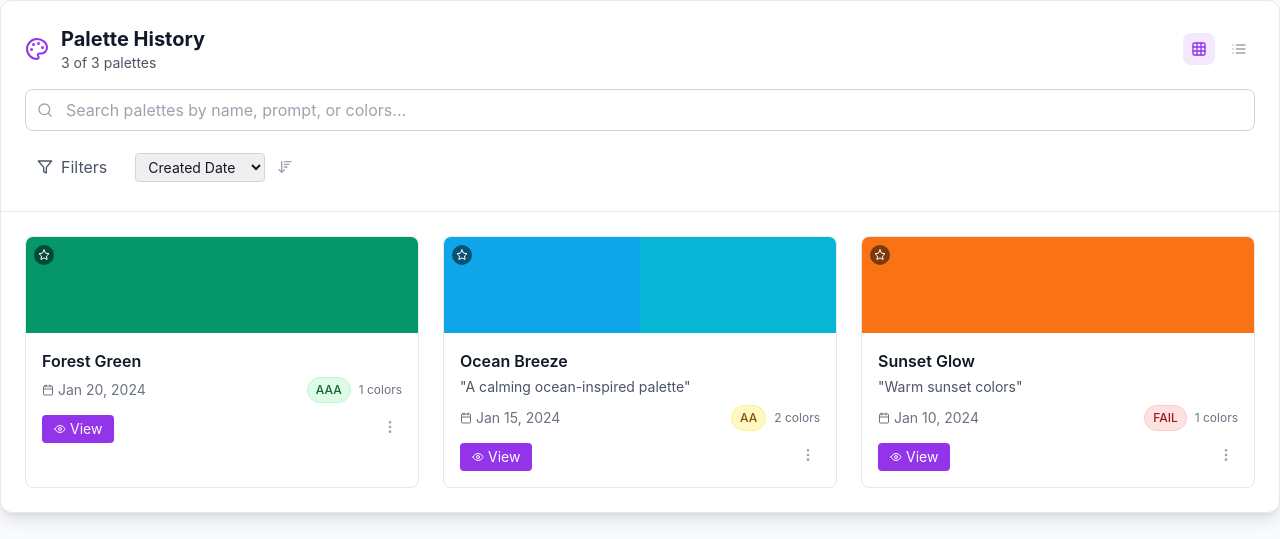
HistoryPanel › Search Functionality › filters palettes by name
Type "Ocean" into the field with placeholder "Search palettes by name, prompt, or colors..." at coordinates (640, 110), box [25,89,1255,131]
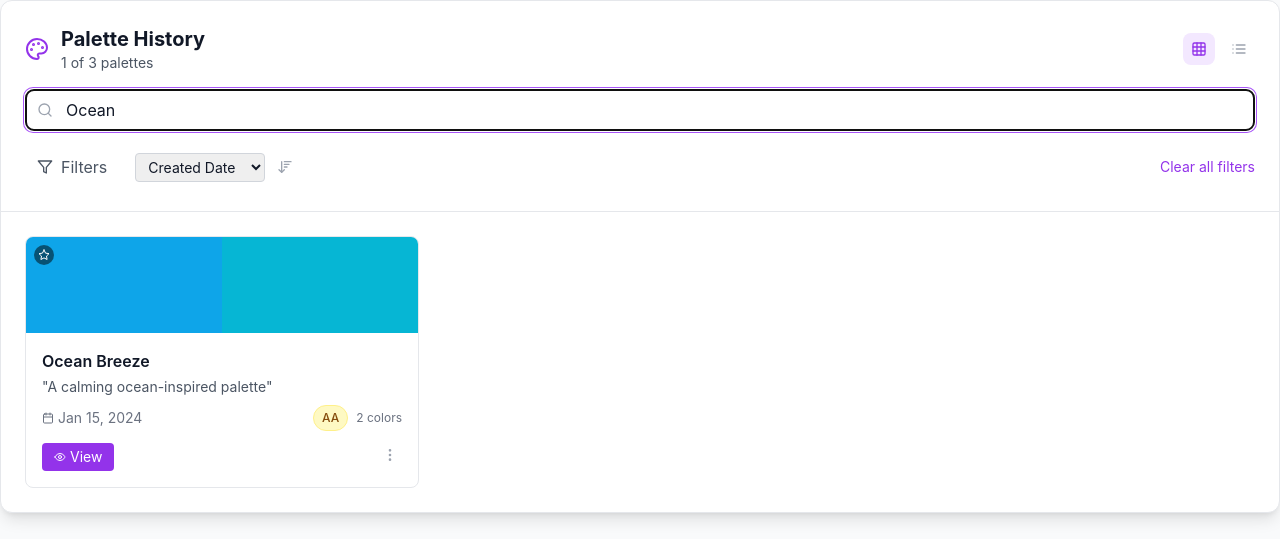
Expected: the heading "Ocean Breeze" is shown, [42,351,150,371]
Expected: the heading "Sunset Glow" is gone
Expected: the heading "Forest Green" is gone
